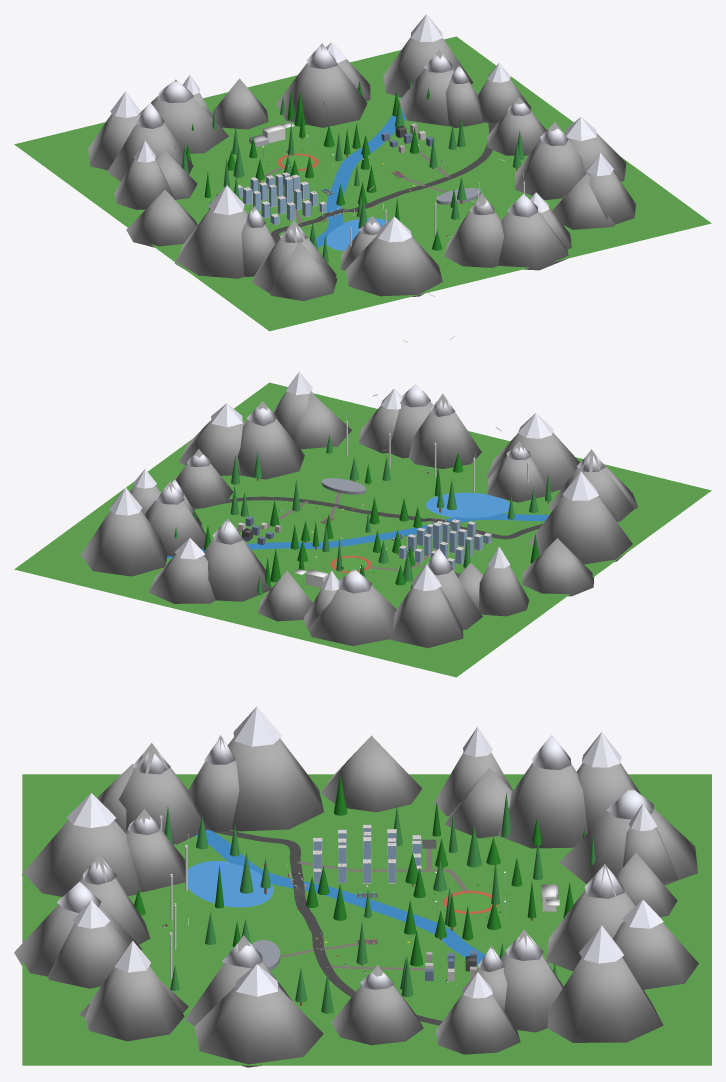
Rendered from city.glb.
3 views of the same model, one above another, from view 1: azimuth 30°, elevation 25°; view 2: azimuth 150°, elevation 25°; view 3: azimuth 270°, elevation 25° (orthographic). The views are drawn at different scales.
Visible parts, largest first — view 1: Ground, FillMountain_8, Mountain_3, FillMountain_4, Mountain_15, Mountain_13, Mountain_12, Mountain_8, Mountain_5, FillMountain_0, Mountain_2, FillMountain_3 (+23 smaller); view 2: Ground, FillMountain_4, FillMountain_3, Mountain_5, FillMountain_1, Mountain_3, Mountain_12, Mountain_15, Mountain_8, FillMountain_11, FillMountain_8, Mountain_2 (+24 smaller); view 3: Ground, FillMountain_3, FillMountain_6, FillMountain_4, Mountain_6, FillMountain_8, FillMountain_2, Mountain_8, Mountain_5, Mountain_10, Mountain_0, FillMountain_11 (+34 smaller).
Boxes of the visible parts, x1,y1,x2,y2 form: Ground: [14, 36, 711, 331]; FillMountain_8: [345, 235, 442, 296]; Mountain_3: [276, 43, 367, 127]; FillMountain_4: [175, 208, 248, 278]; Mountain_15: [515, 122, 585, 199]; Mountain_13: [498, 211, 568, 270]; Mountain_12: [444, 193, 504, 267]; Mountain_8: [126, 190, 197, 247]; Mountain_5: [139, 79, 228, 153]; FillMountain_0: [269, 242, 337, 300]; Mountain_2: [399, 49, 454, 126]; FillMountain_3: [383, 37, 473, 97]; Ground: [14, 382, 711, 677]; FillMountain_4: [529, 496, 632, 564]; FillMountain_3: [81, 510, 167, 576]; Mountain_5: [303, 569, 396, 645]; FillMountain_1: [390, 586, 463, 647]; Mountain_3: [204, 518, 271, 601]; Mountain_12: [408, 393, 481, 468]; Mountain_15: [237, 401, 304, 479]; Mountain_8: [522, 538, 594, 596]; FillMountain_11: [148, 554, 215, 603]; FillMountain_8: [486, 432, 579, 492]; Mountain_2: [144, 481, 205, 556]; Ground: [22, 774, 711, 1065]; FillMountain_3: [547, 957, 663, 1042]; FillMountain_6: [194, 986, 323, 1067]; FillMountain_4: [227, 737, 323, 831]; Mountain_6: [498, 763, 587, 848]; FillMountain_8: [21, 820, 141, 896]; FillMountain_2: [85, 965, 184, 1041]; Mountain_8: [321, 735, 422, 812]; Mountain_5: [559, 787, 697, 885]; Mountain_10: [118, 743, 206, 844]; Mountain_0: [331, 965, 423, 1045]; FillMountain_11: [613, 921, 698, 989].
Bounding box in the file's own units: 510 × 190 × 506.
